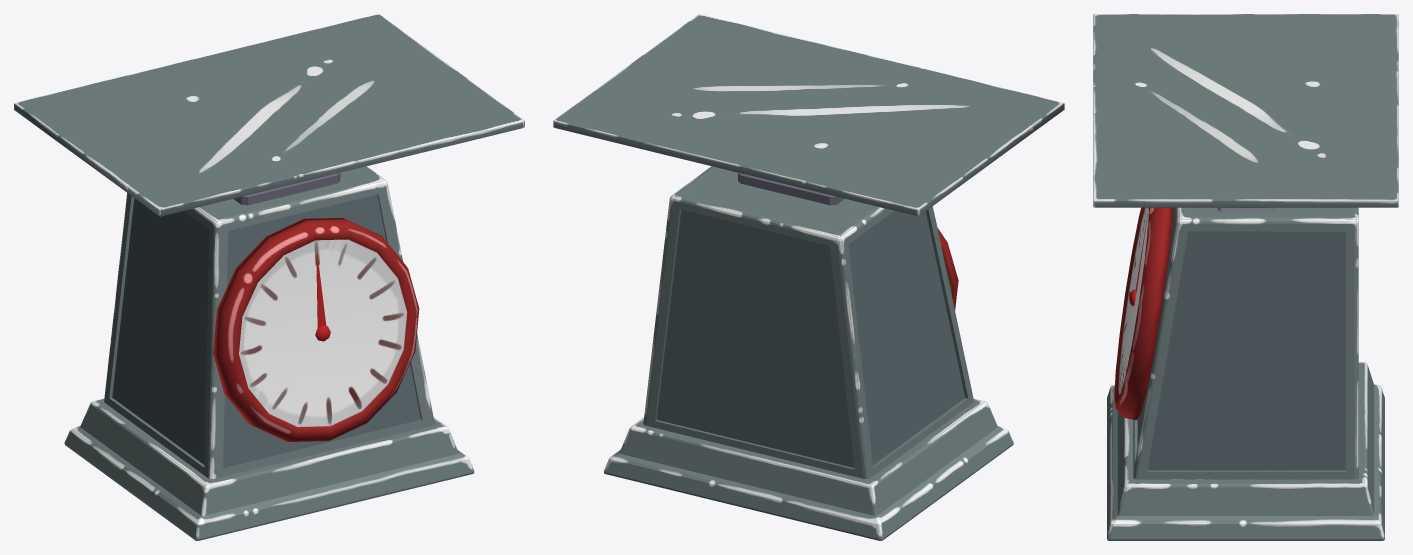
Rendered from food_scale.fbx.
3 views of the same model, side by side, from view 1: azimuth 30°, elevation 25°; view 2: azimuth 150°, elevation 25°; view 3: azimuth 270°, elevation 25° (orthographic). The views are drawn at different scales.
Parts seen in each view (by area): view 1: platform, weigher, circle; view 2: platform, weigher; view 3: platform, weigher, circle.
Boxes of the visible parts, <box> form: platform: <box>64,166,474,540</box>; weigher: <box>14,14,524,216</box>; circle: <box>213,218,419,441</box>; platform: <box>604,166,1013,540</box>; weigher: <box>553,14,1064,216</box>; platform: <box>1107,207,1384,540</box>; weigher: <box>1093,14,1398,207</box>; circle: <box>1114,207,1173,419</box>.
Bounding box in the file's own units: 132 × 120 × 91.41.
